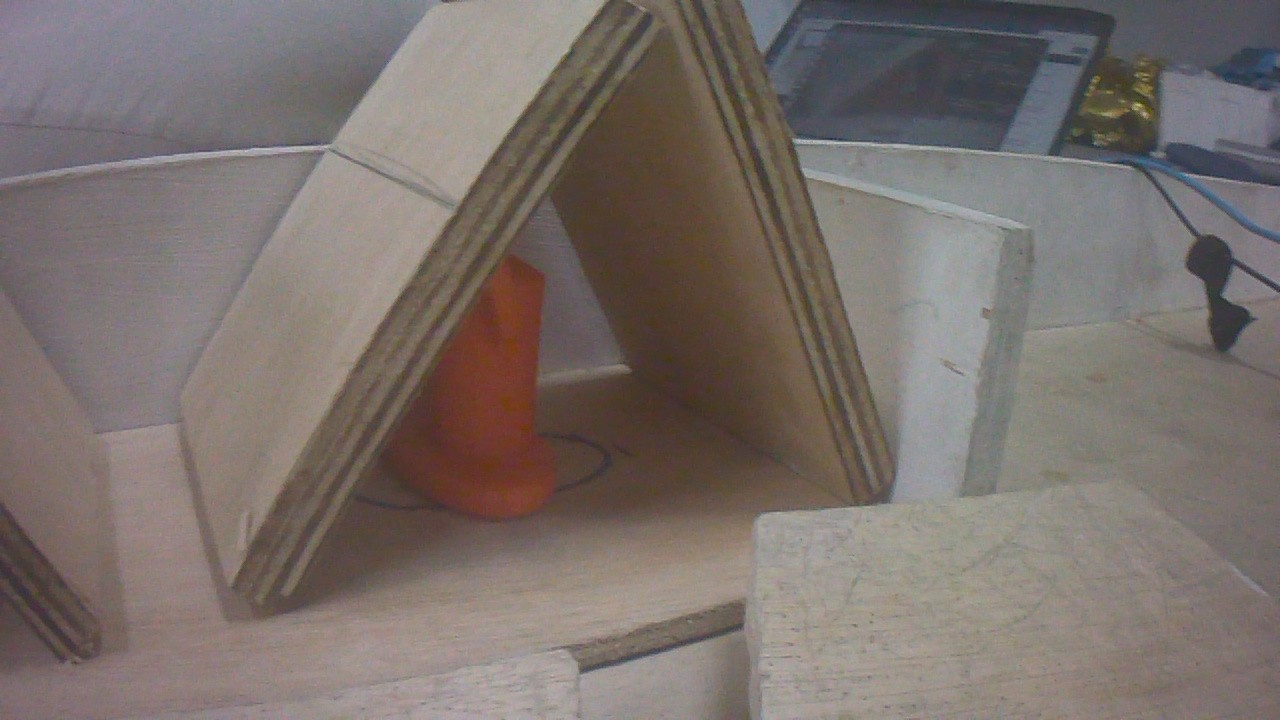real: (376, 194, 598, 524)
